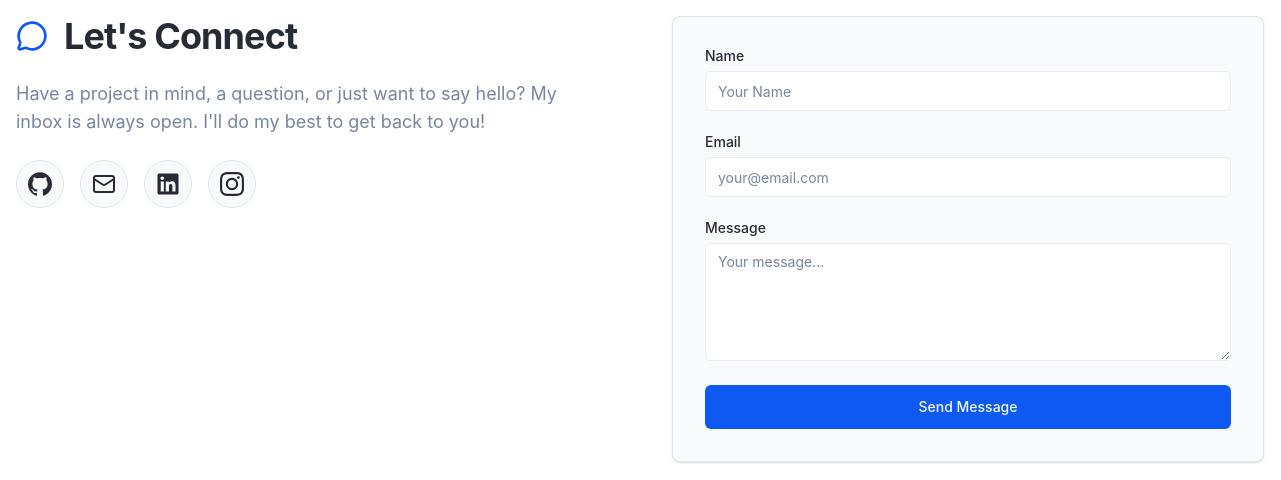
Scenario: contact form focus on result › announces the outcome in the live region as well as moving focus
In the field labelled "Name": x=968, y=91 x1=705 y1=71 x2=1231 y2=111, type "Test Person"
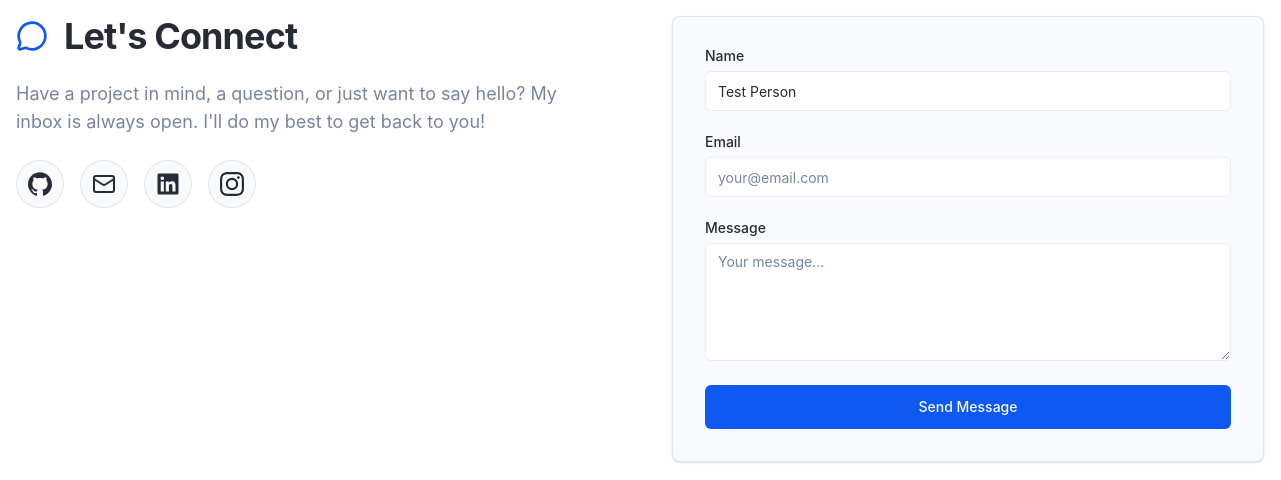
In the field labelled "Email": x=968, y=177 x1=705 y1=157 x2=1231 y2=197, type "test@example.com"
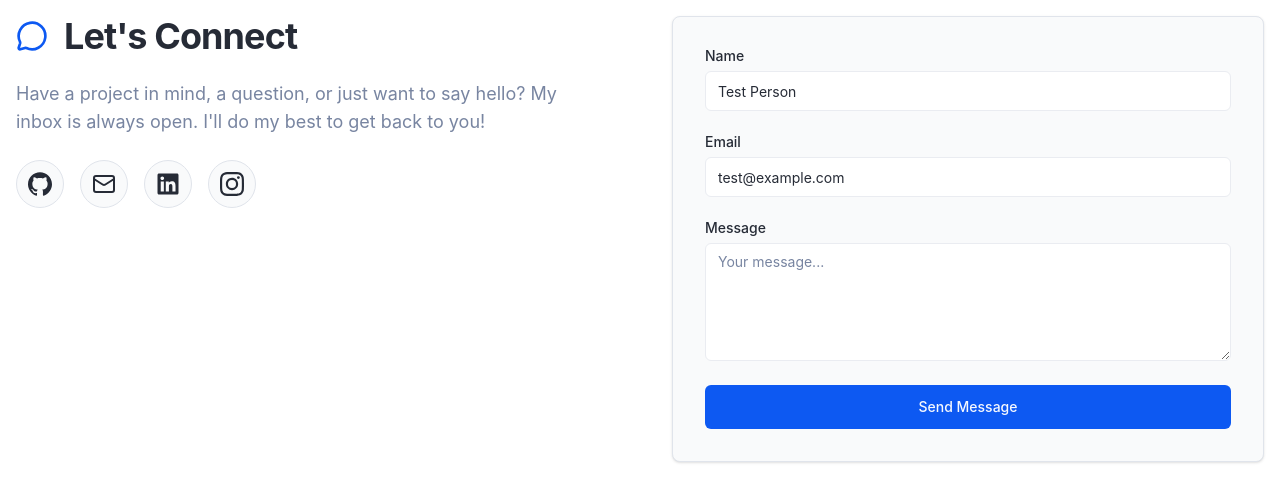
In the text box labelled "Message": x=968, y=302 x1=705 y1=243 x2=1231 y2=361, type "A real message."
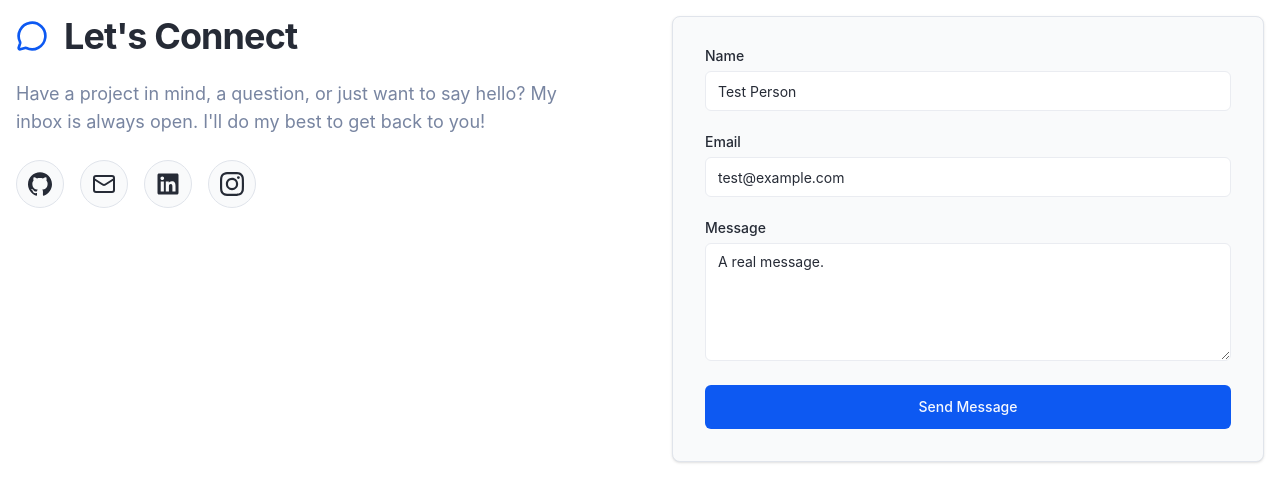
Click the button "Send Message": x=968, y=407 x1=705 y1=385 x2=1231 y2=429
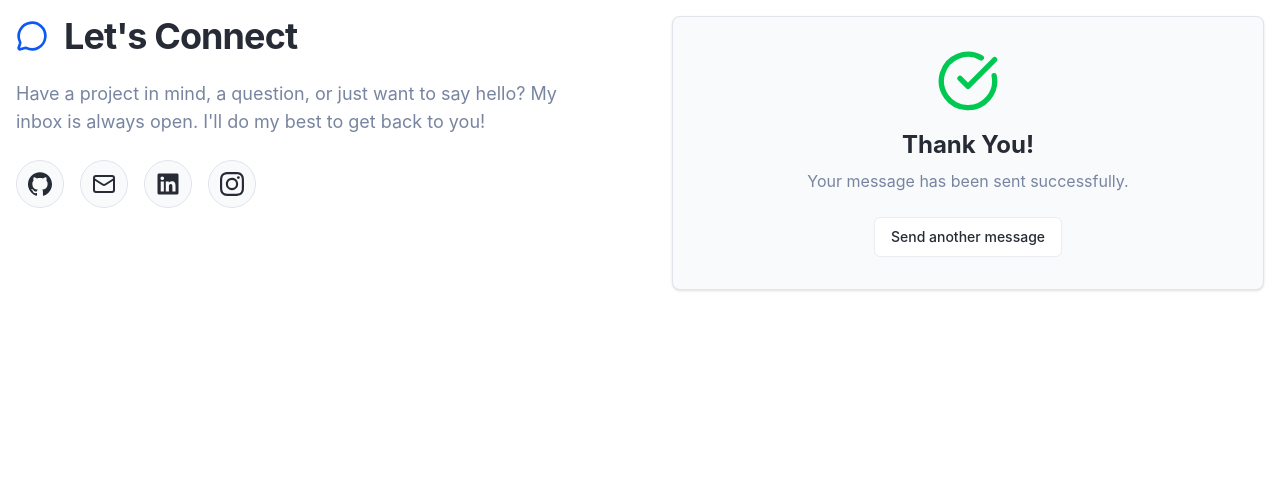
Now the heading "Thank You!" is shown, box x1=902 y1=129 x2=1034 y2=161
